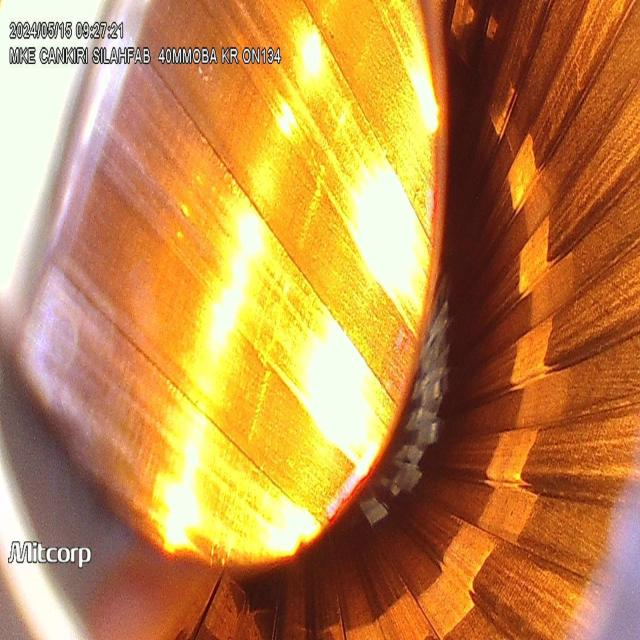hata_2.3: (200, 113, 277, 250)
